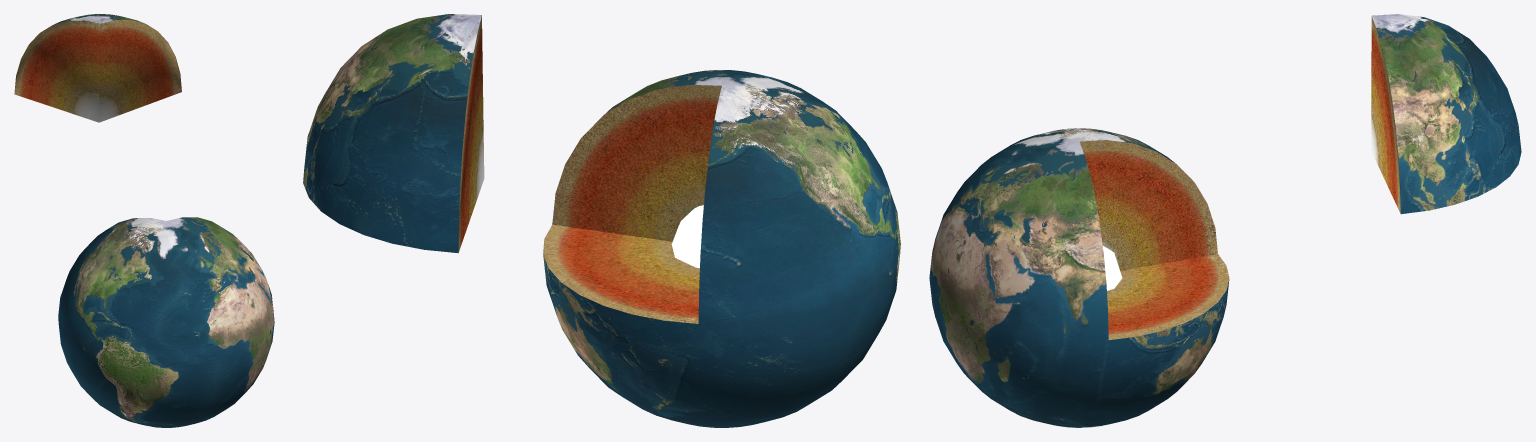
The model's file is asset.glb.
3 views of the same model, side by side, from view 1: azimuth 30°, elevation 25°; view 2: azimuth 150°, elevation 25°; view 3: azimuth 270°, elevation 25° (orthographic). The views are drawn at different scales.
Visible parts, largest first — view 1: Sphere, Sphere.003, Sphere.001; view 2: Sphere, Sphere.001, Sphere.002, Sphere.003, Icosphere; view 3: Sphere, Sphere.001, Sphere.002, Sphere.003, Icosphere.
Part boxes in pixels (<box>): Sphere: <box>58,217,274,427</box>; Sphere.003: <box>14,20,181,122</box>; Sphere.001: <box>54,14,143,24</box>; Sphere: <box>543,70,900,427</box>; Sphere.001: <box>303,14,481,253</box>; Sphere.002: <box>543,85,721,323</box>; Sphere.003: <box>458,15,484,251</box>; Icosphere: <box>671,205,703,267</box>; Sphere: <box>929,128,1229,427</box>; Sphere.001: <box>1372,14,1521,214</box>; Sphere.002: <box>1079,140,1229,340</box>; Sphere.003: <box>1371,16,1400,213</box>; Icosphere: <box>1102,246,1122,290</box>.
Bounding box in the file's own units: 2.4 × 3.13 × 3.95.
3 materials, 2 textured.
